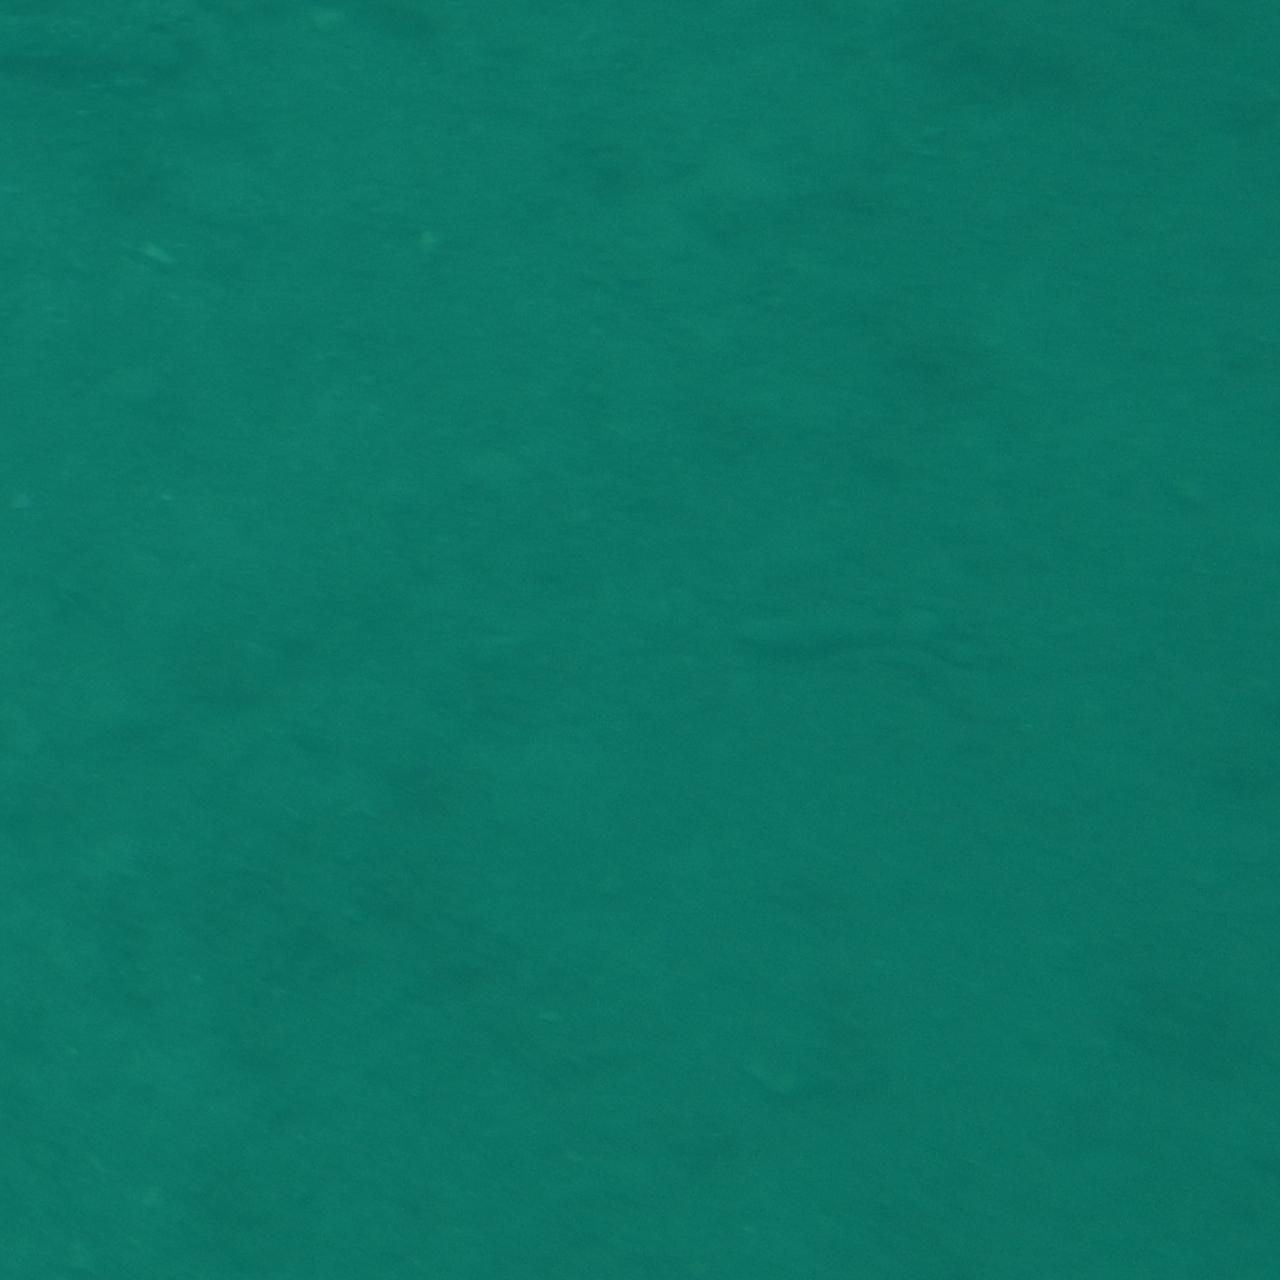Holothuria tubulosa: (713, 592, 1023, 688)
